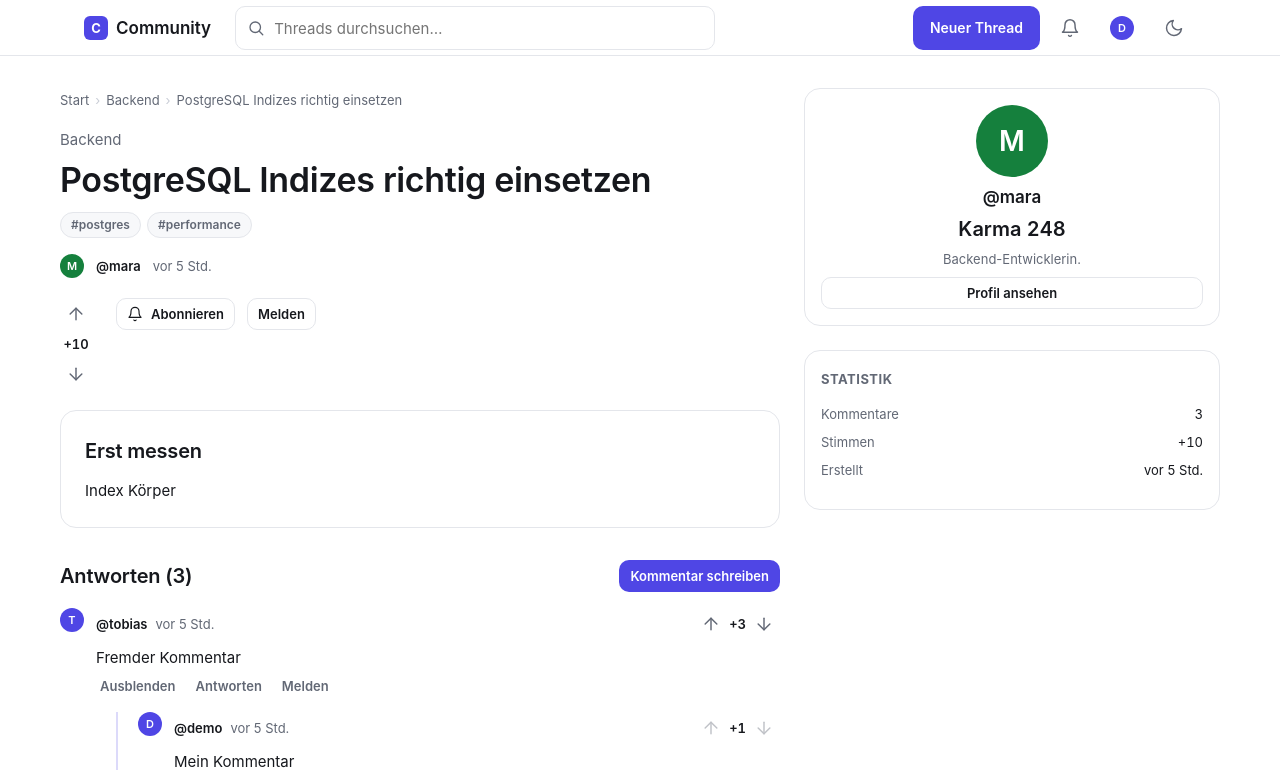
Test: forum thread page › replies to a foreign comment and shows the new reply
Expected: the text "Fremder Kommentar" is shown, 96,648 -> 241,667
Click the 1st button "Antworten": (229, 686) 192,676 -> 266,696
(page scrolled)
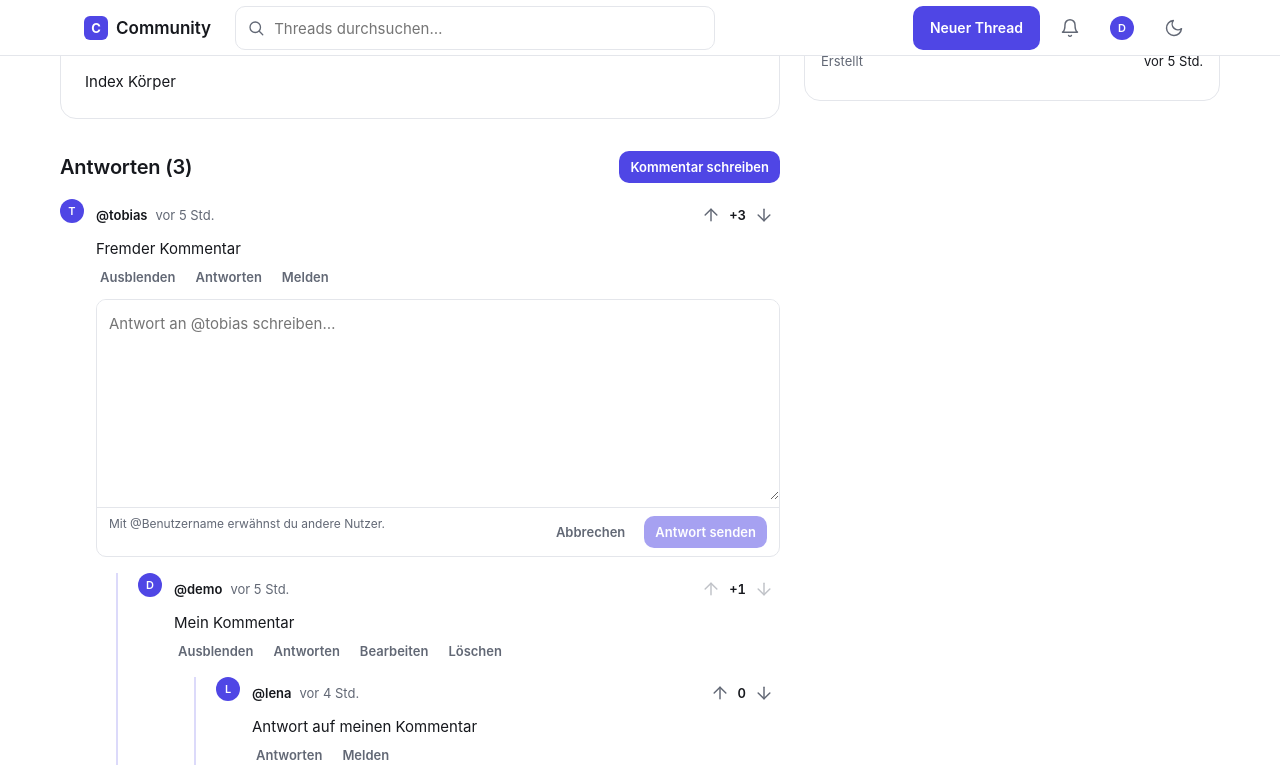
In the text box labelled "Antwort": (438, 400) 97,300 -> 779,500, type "Danke für den Hinweis!"
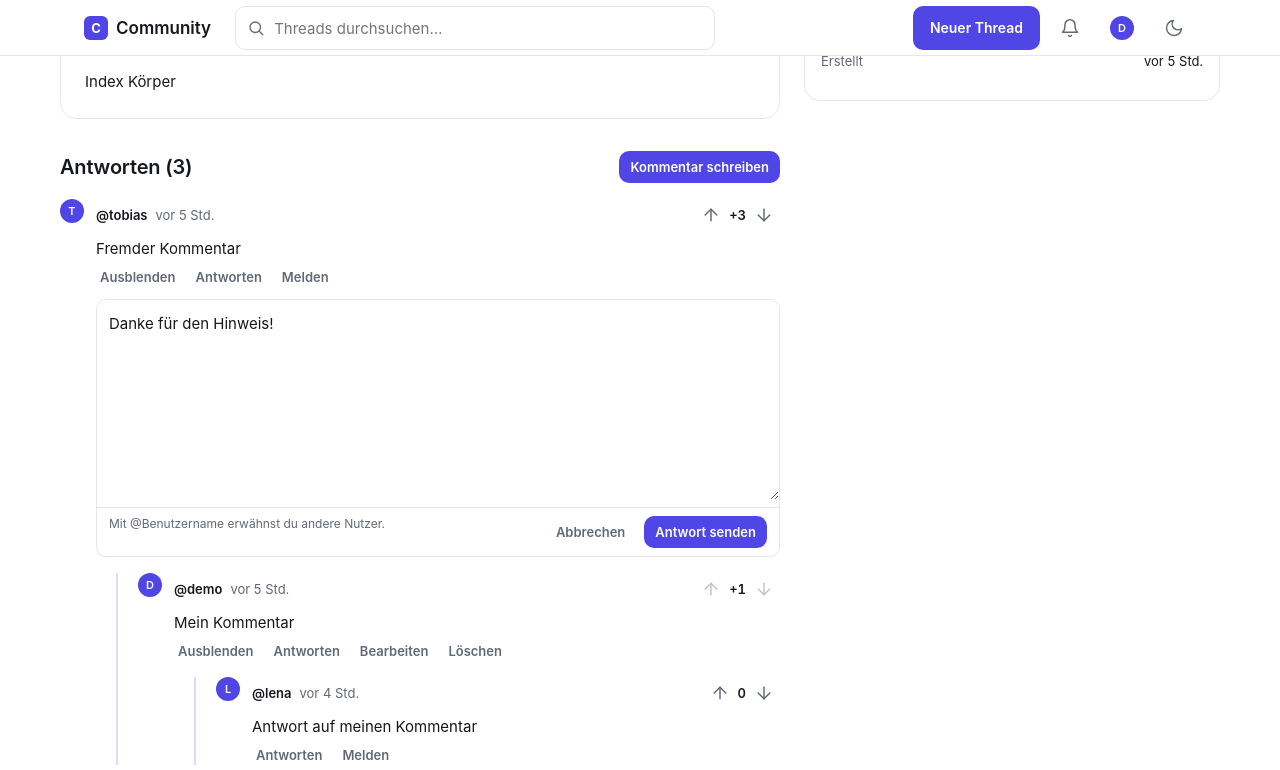
Click the button "Antwort senden": (706, 532) 644,516 -> 767,548
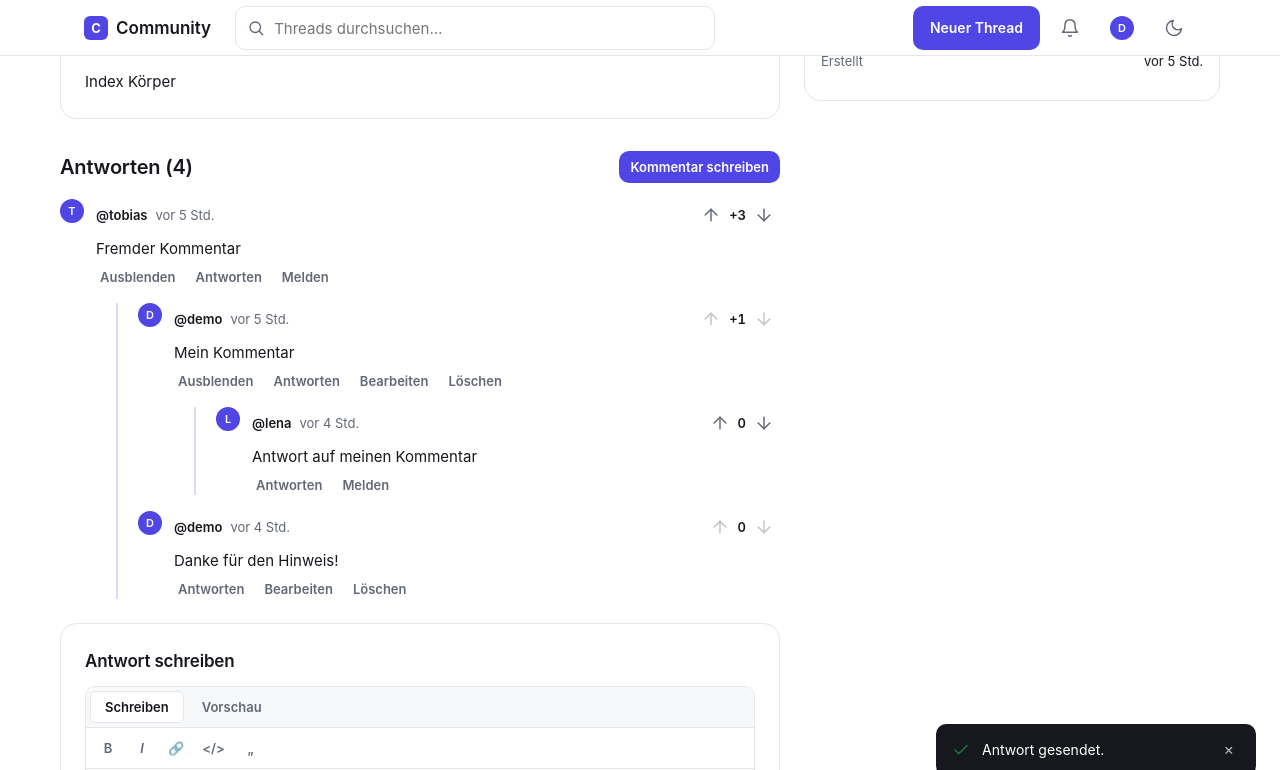
Result: the text "Danke für den Hinweis!" is shown at 174,551 -> 338,570
